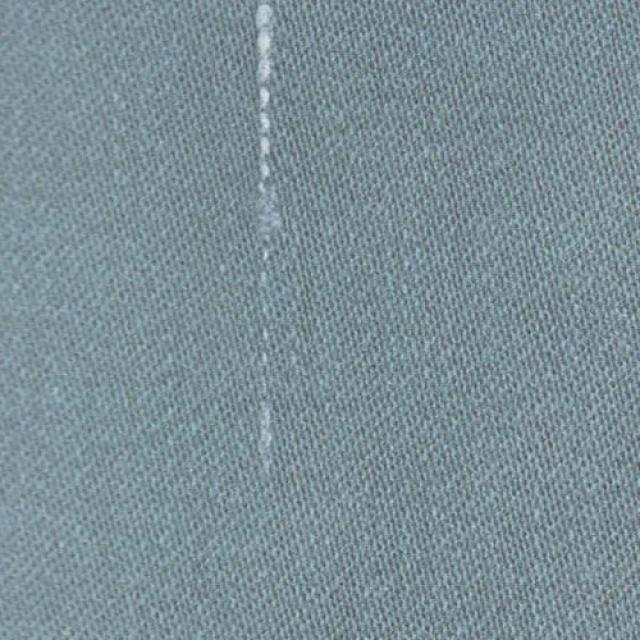Warp_Weft: (246, 0, 279, 485)
